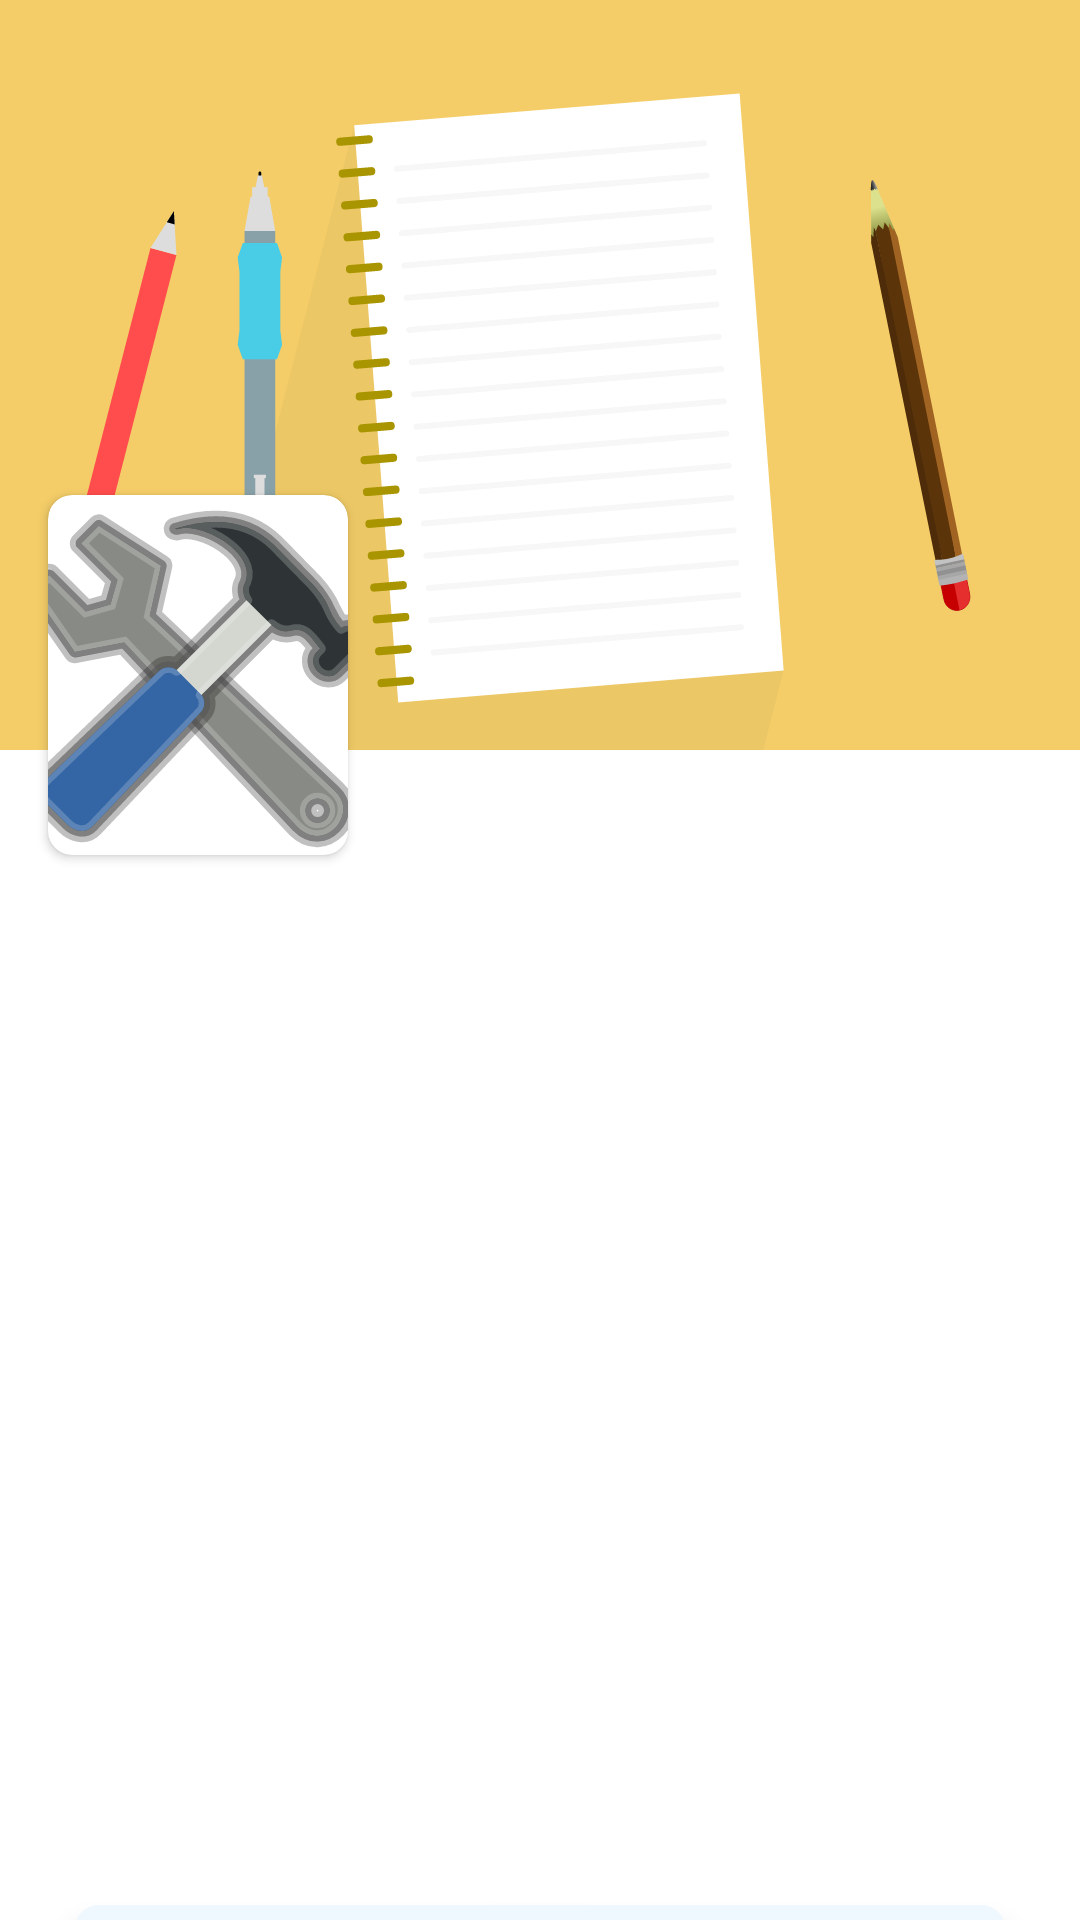

Named icons in this screenshot (1080w x 1920h) and their centers, (x=x, y=y):
hammer: (x=198, y=675)
